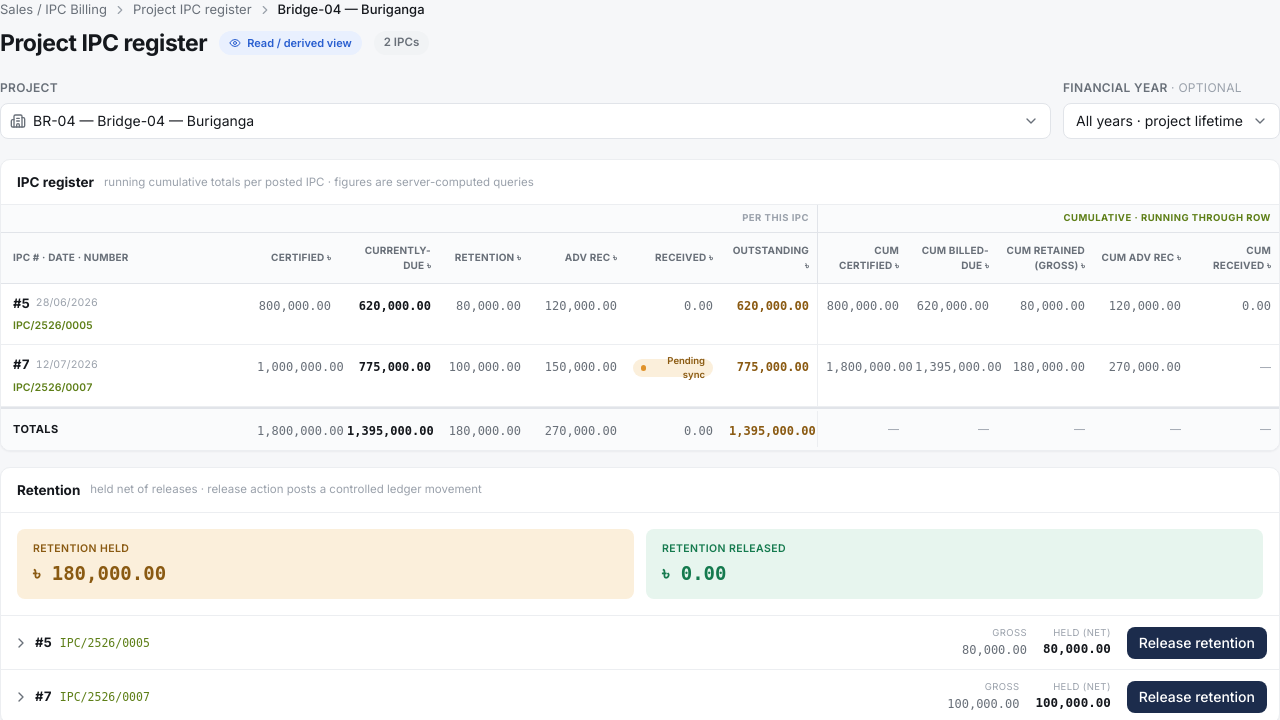
Scenario: Retention panel + Release-retention dialog (spec §5/§6/§7/§8) › maps OVER_RELEASE to the exact spec §8 inline message + keeps the dialog open (FR-SAL-019)
Expected: the element with test id "reg-grid" is shown, x1=1 y1=205 x2=1279 y2=450
Click the button with test id "ret-release-btn-ipc-5" at (1197, 642), box x1=1127 y1=626 x2=1267 y2=658
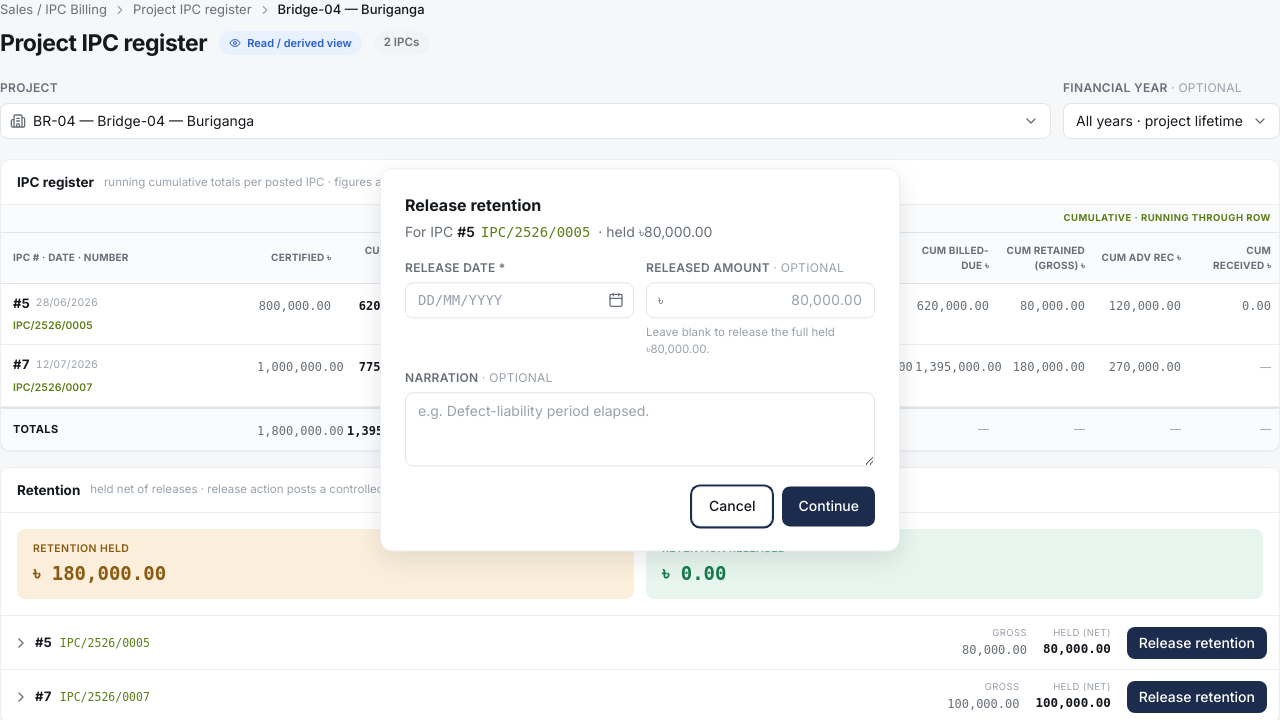
Result: the dialog with test id "release-dialog" is shown at x1=380 y1=168 x2=900 y2=552
Type "20/06/2027" into the field labelled "Release date *" at (520, 300), box x1=405 y1=282 x2=634 y2=318
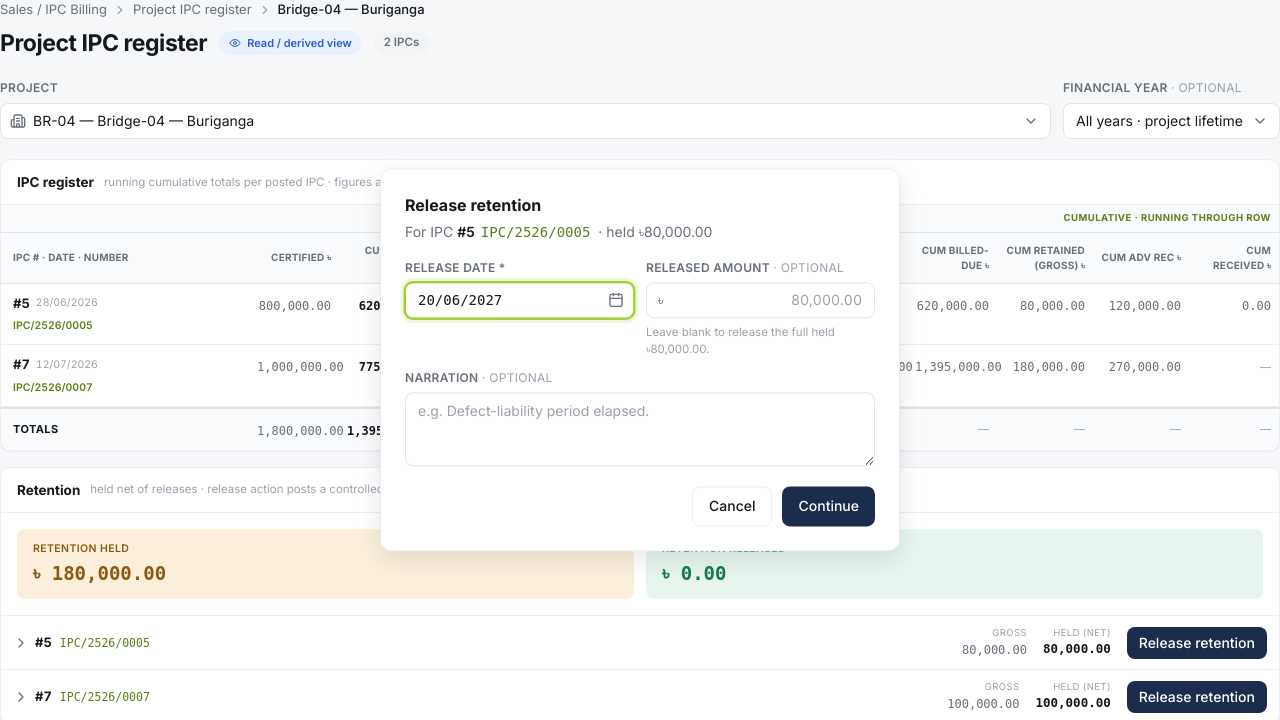
Type "70000" into the field with test id "release-amount" at (760, 300), box x1=646 y1=282 x2=875 y2=318
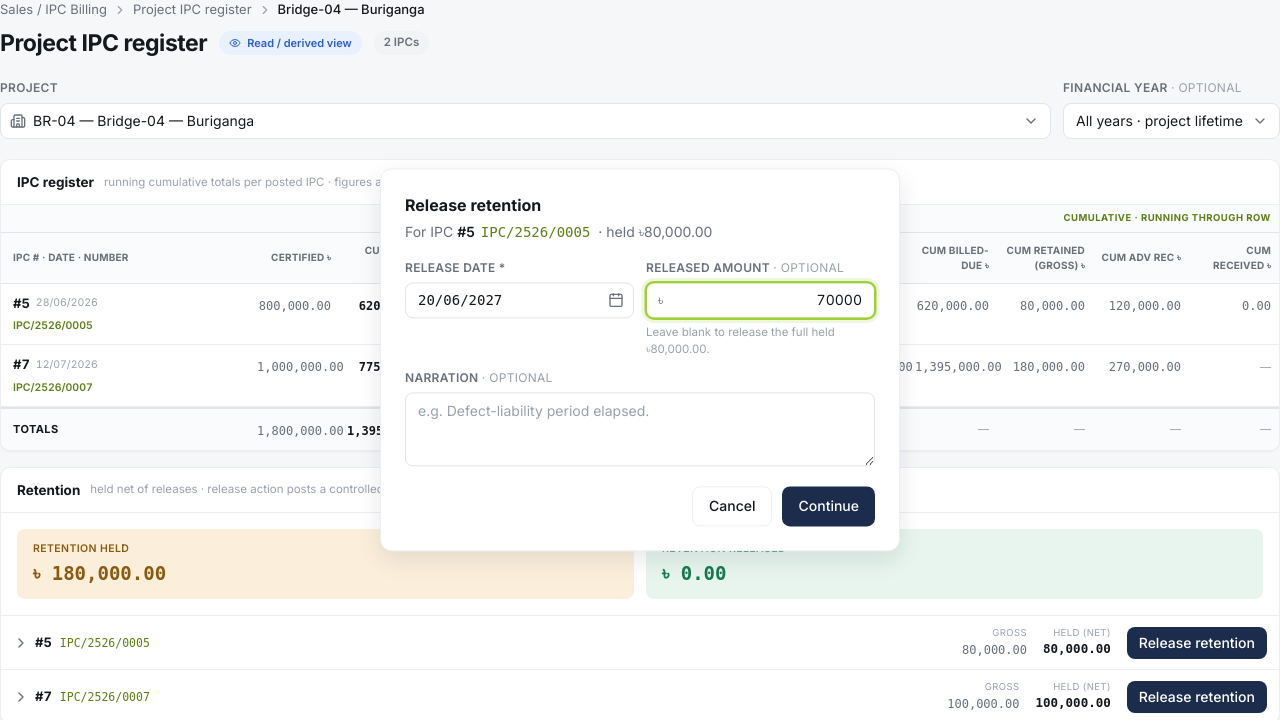
Click the button with test id "release-continue" at (829, 507), box x1=782 y1=487 x2=875 y2=527
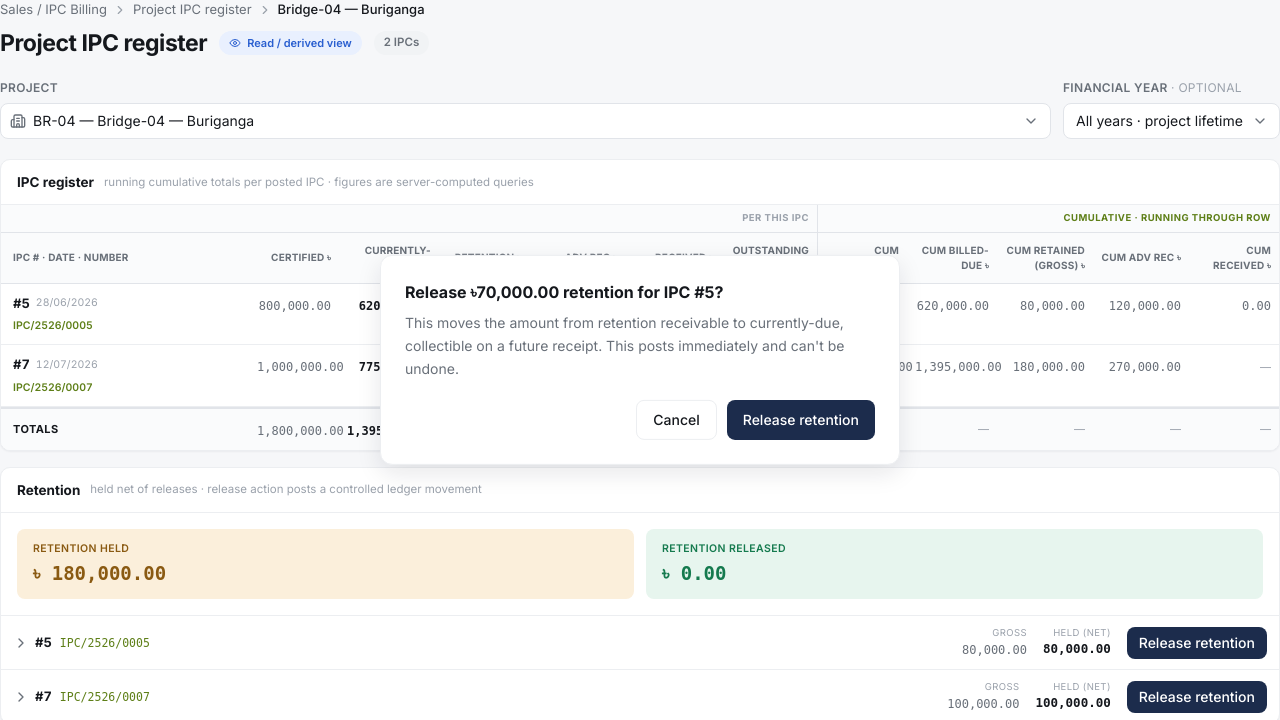
Click the button with test id "release-confirm" at (801, 420), box x1=727 y1=400 x2=875 y2=440
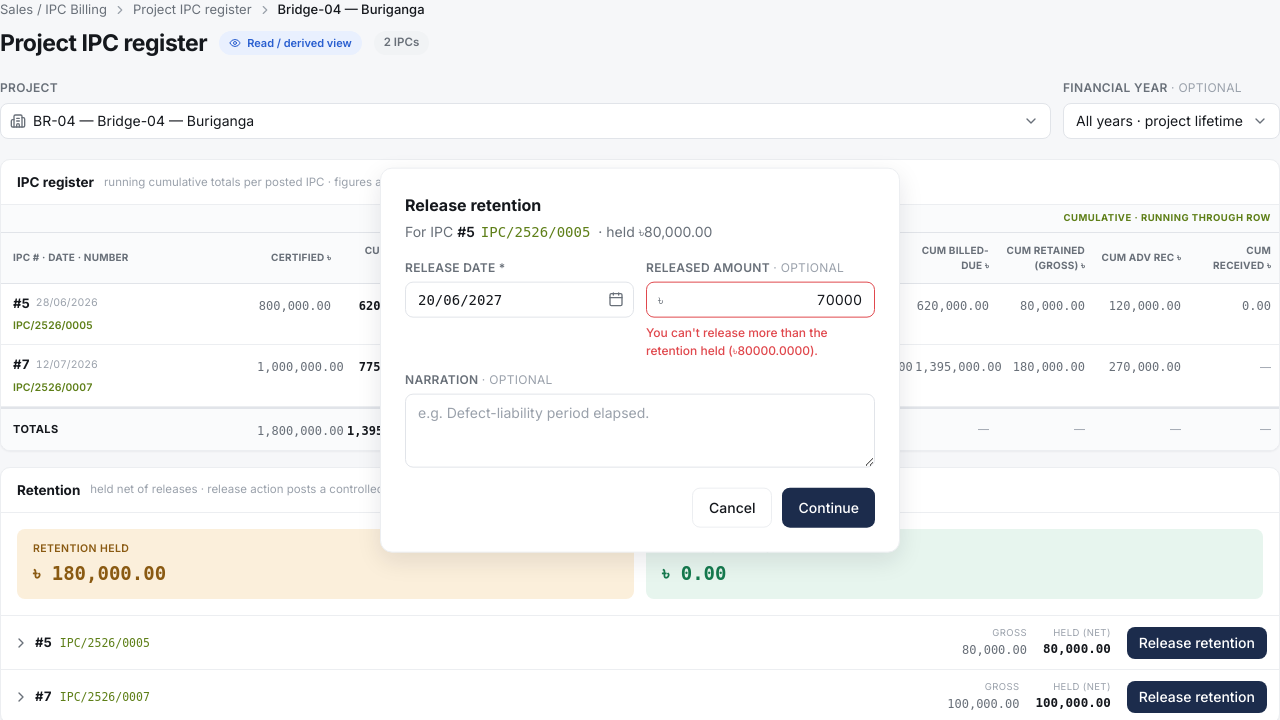
Result: the dialog with test id "release-dialog" is shown at x1=380 y1=168 x2=900 y2=552
Result: the text with test id "release-amount-err" shows "You can't release more than the retention held (৳80000.0000)" at x1=646 y1=324 x2=828 y2=357
